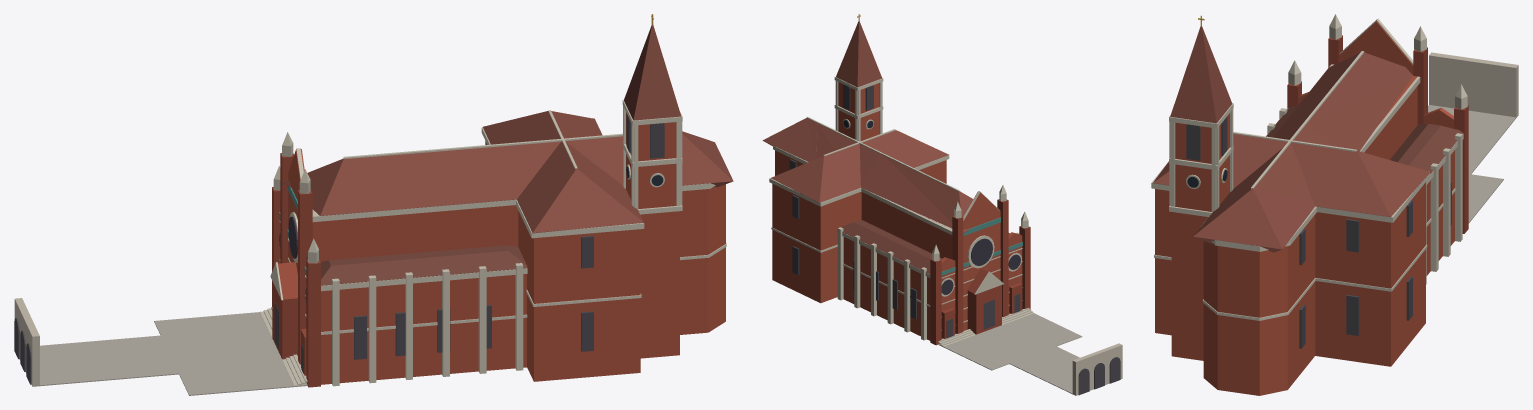
File: stantoine.web.glb
The picture shows the model from 3 angles, left to right: view 1: azimuth 30°, elevation 25°; view 2: azimuth 150°, elevation 25°; view 3: azimuth 270°, elevation 25°; orthographic projection. The views are drawn at different scales.
Visible parts, largest first — view 1: body, roof, court, tower, front; view 2: body, roof, front, court, tower; view 3: body, roof, tower, court, front.
Boxes of the visible parts, x1,y1,x2,y2 form: body: [312, 118, 726, 386]; roof: [284, 110, 733, 285]; court: [14, 298, 307, 395]; tower: [622, 14, 682, 358]; front: [260, 132, 320, 387]; body: [769, 130, 1019, 340]; roof: [762, 117, 1009, 273]; front: [930, 185, 1034, 346]; court: [938, 313, 1122, 395]; tower: [834, 14, 883, 141]; body: [1151, 64, 1463, 395]; roof: [1153, 51, 1463, 252]; tower: [1169, 15, 1233, 360]; court: [1428, 52, 1518, 223]; front: [1287, 14, 1468, 233].
Size of what is drawn, in the model's own units: 82.55 by 43.2 by 43.05.
